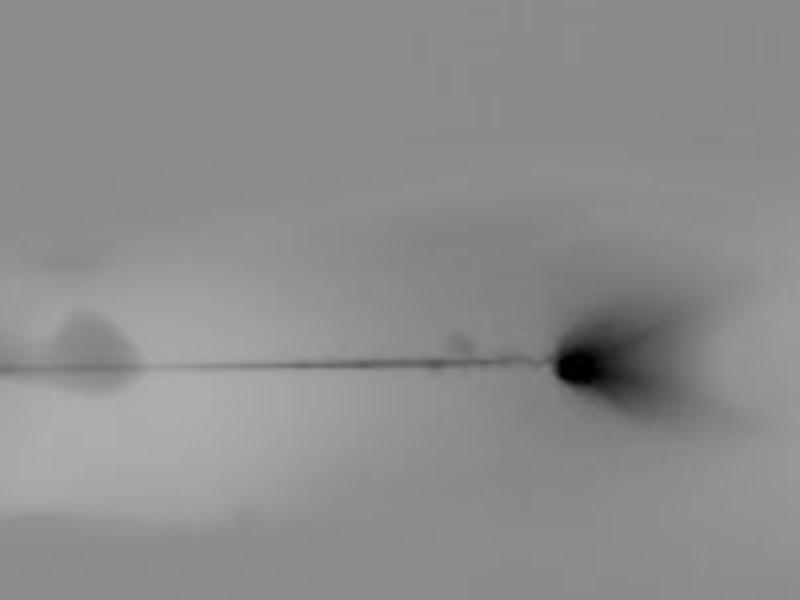defect: (54, 314, 142, 387), (555, 338, 611, 383)
